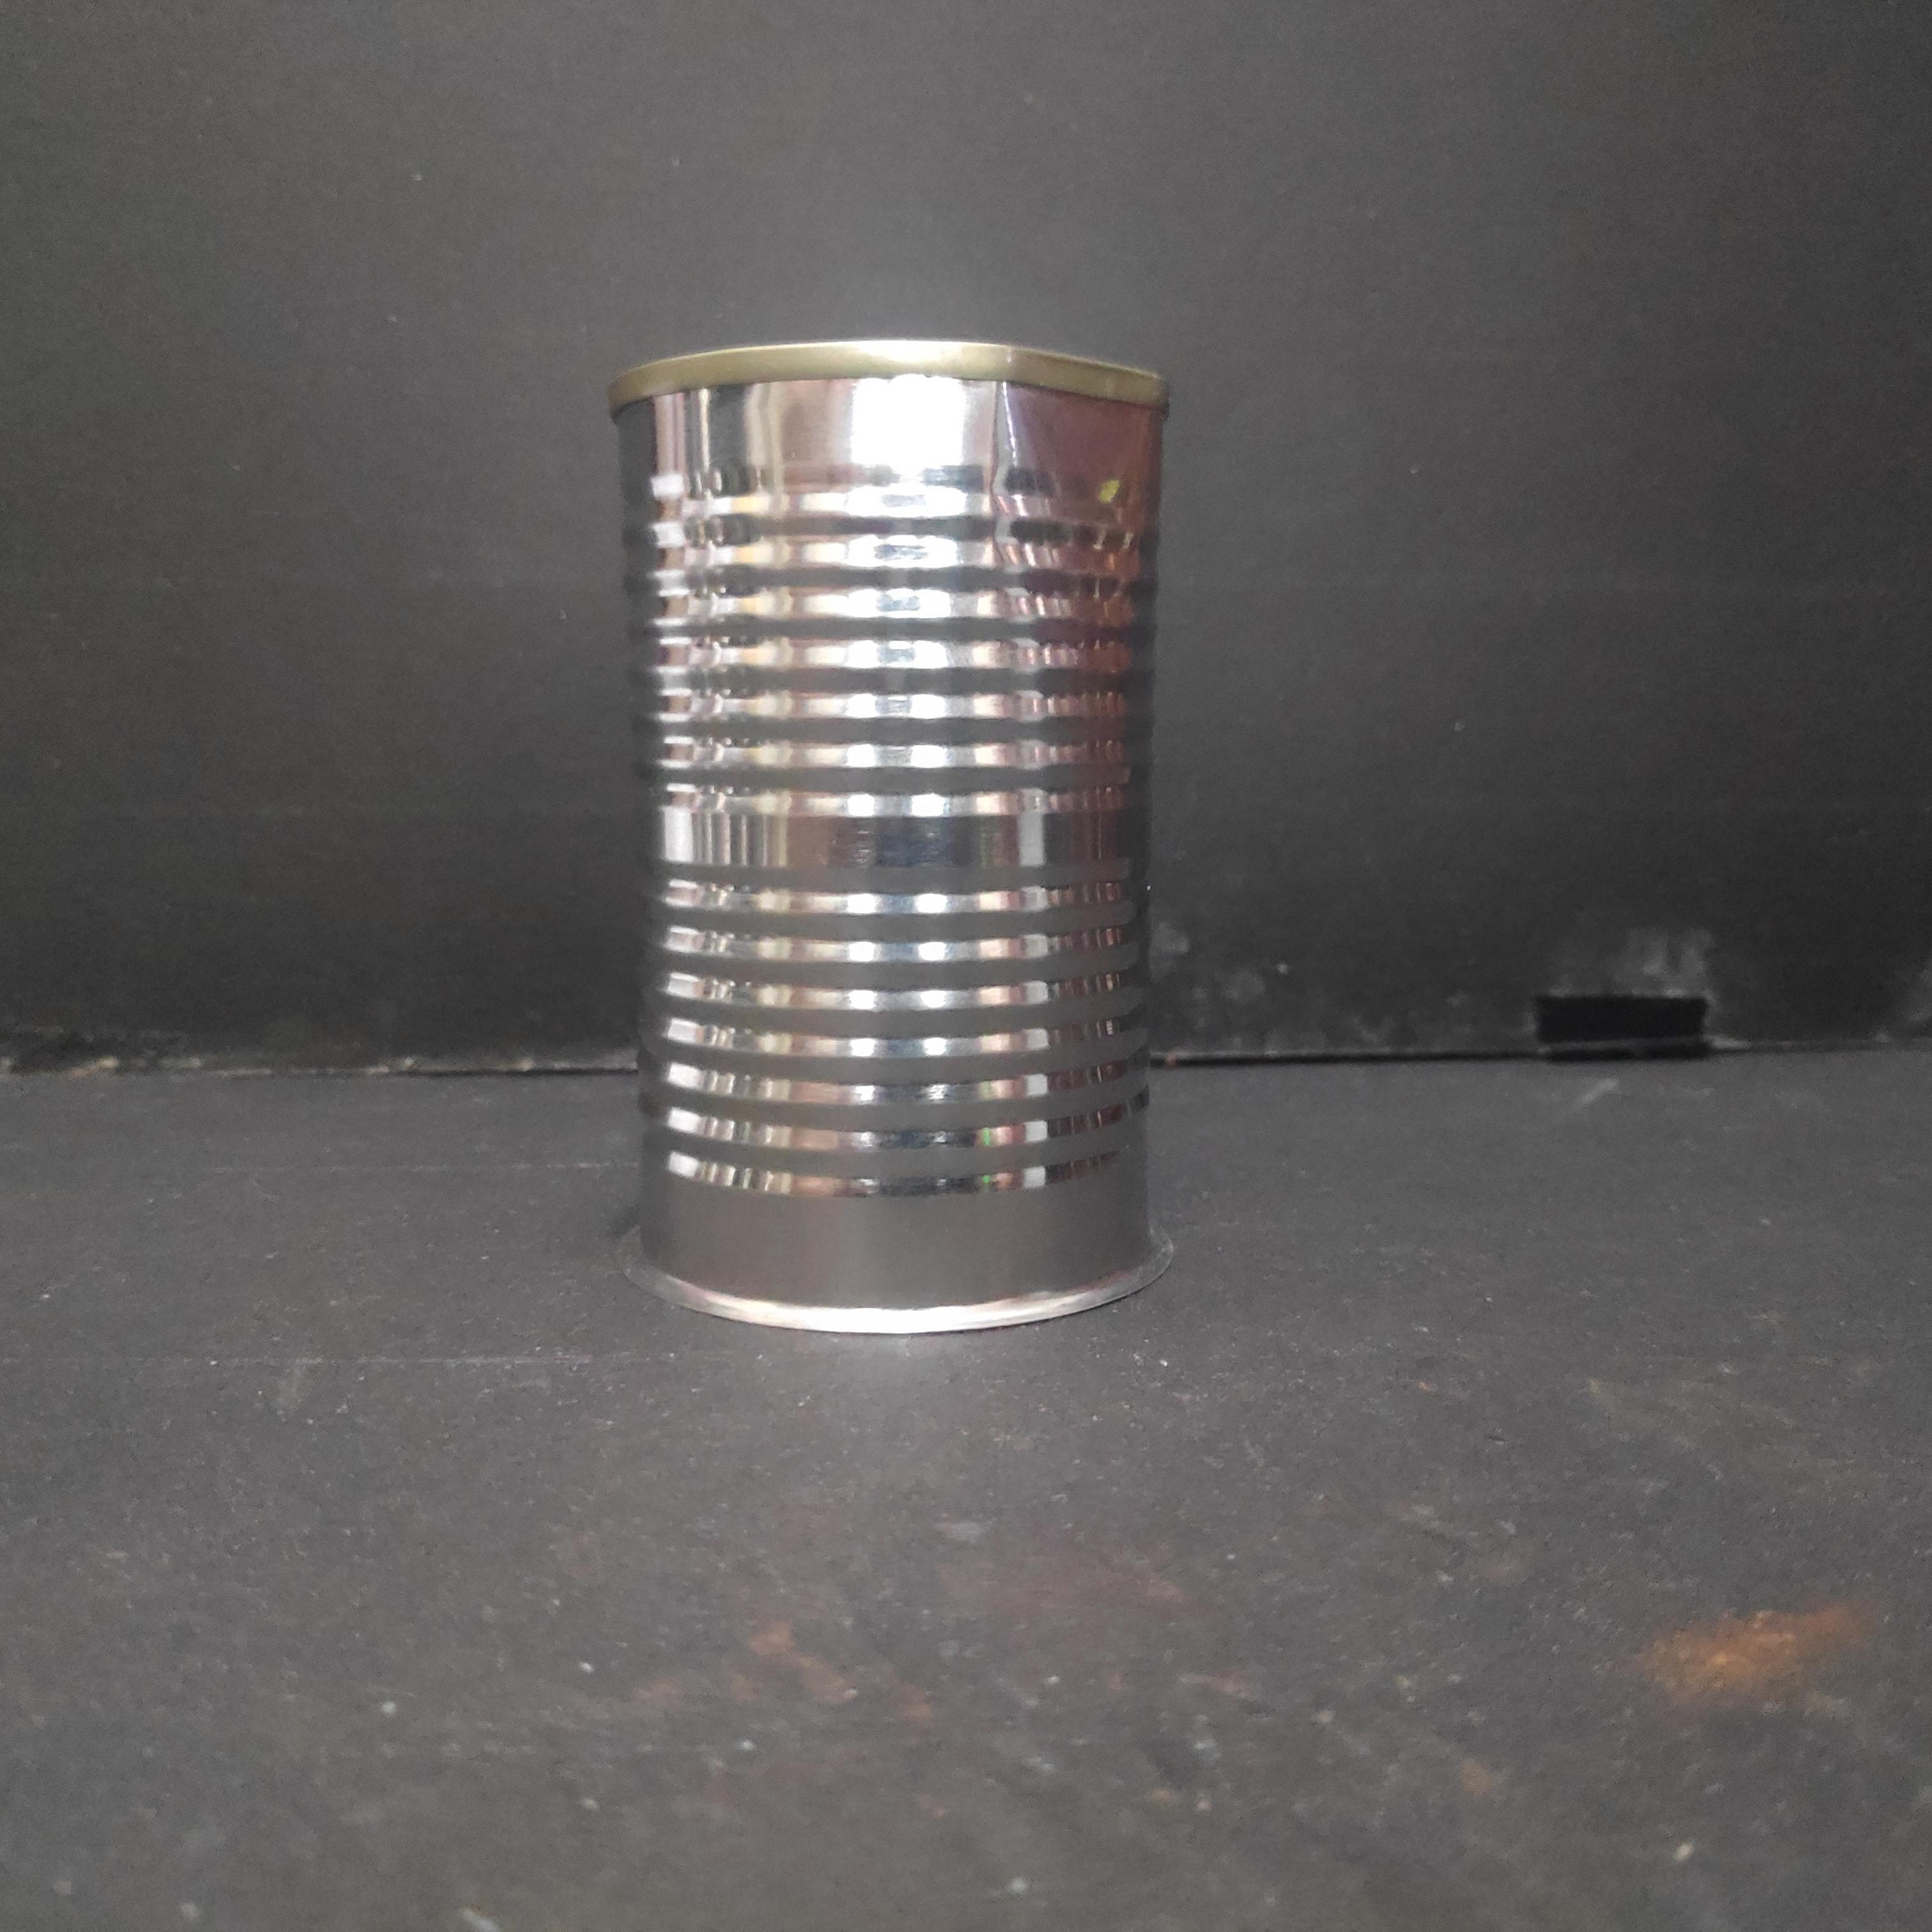Minor Defect: (602, 336, 1180, 1338)
